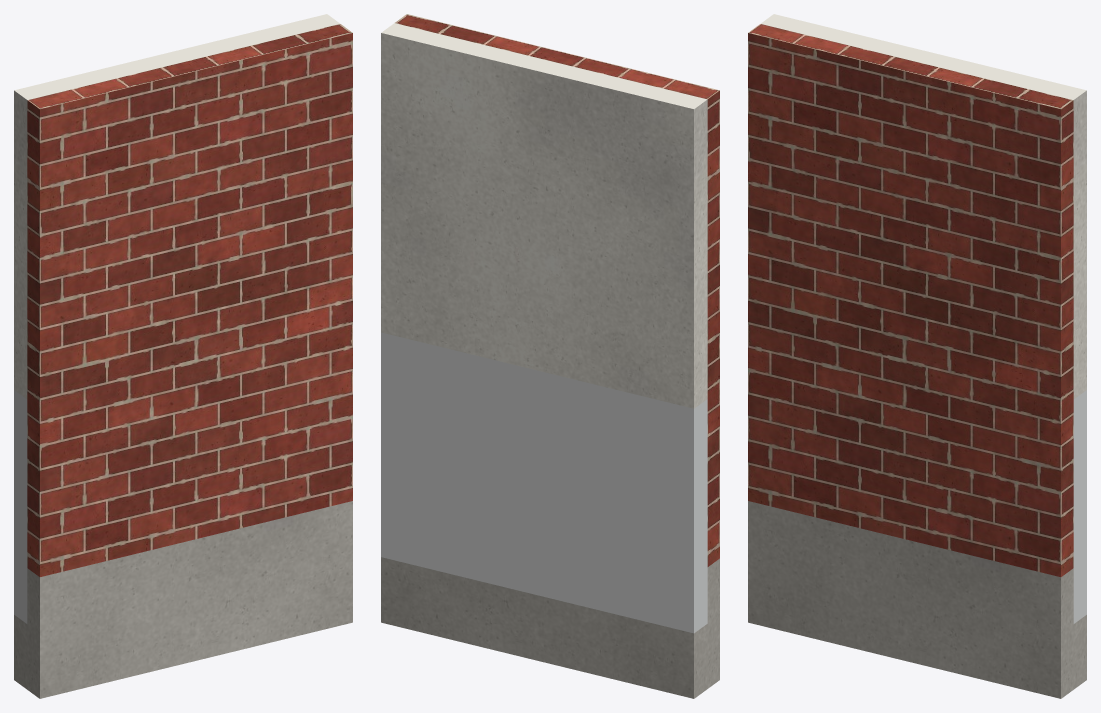
Rendered from q_plain_l.glb.
The picture shows the model from 3 angles, left to right: view 1: azimuth 30°, elevation 25°; view 2: azimuth 150°, elevation 25°; view 3: azimuth 330°, elevation 25°; orthographic projection.
Visible parts, largest first — view 1: q_plain_l_brick, q_plain_l_concrete, q_plain_l_plaster, q_plain_l_tile; view 2: q_plain_l_plaster, q_plain_l_tile, q_plain_l_concrete, q_plain_l_brick; view 3: q_plain_l_brick, q_plain_l_concrete, q_plain_l_plaster, q_plain_l_tile.
Boxes of the visible parts, left/top/right/bottom form: q_plain_l_brick: left=27, top=24, right=352, bottom=576; q_plain_l_concrete: left=14, top=501, right=352, bottom=698; q_plain_l_plaster: left=14, top=14, right=340, bottom=399; q_plain_l_tile: left=14, top=390, right=27, bottom=623; q_plain_l_plaster: left=381, top=23, right=707, bottom=408; q_plain_l_tile: left=381, top=332, right=707, bottom=633; q_plain_l_concrete: left=381, top=557, right=719, bottom=698; q_plain_l_brick: left=395, top=14, right=719, bottom=566; q_plain_l_brick: left=748, top=24, right=1073, bottom=576; q_plain_l_concrete: left=748, top=501, right=1086, bottom=698; q_plain_l_plaster: left=760, top=14, right=1086, bottom=399; q_plain_l_tile: left=1073, top=390, right=1086, bottom=623.
Size of the model in its own units: 1.75 by 3.15 by 0.25.
4 materials, 3 textured.
